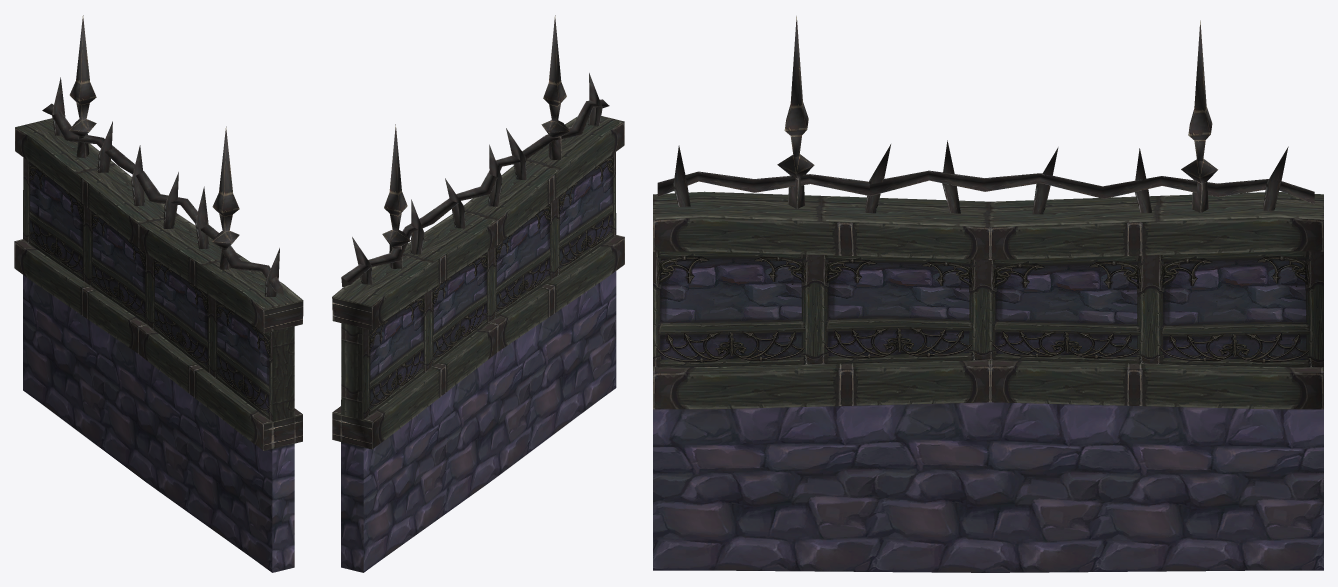
The model's file is nd_forsaken_wall_small.obj.
3 renders of one model, left to right at view 1: azimuth 30°, elevation 25°; view 2: azimuth 150°, elevation 25°; view 3: azimuth 270°, elevation 25°, orthographic. The views are drawn at different scales.
Visible parts, largest first — view 1: wall_small; view 2: wall_small; view 3: wall_small.
Boxes of the visible parts, <box> form: wall_small: <box>14,15,303,572</box>; wall_small: <box>332,15,624,572</box>; wall_small: <box>653,16,1323,572</box>.
Size of the model in its own units: 1.92 by 18.93 by 20.97.
Materials: 6 (6 with a texture image).
